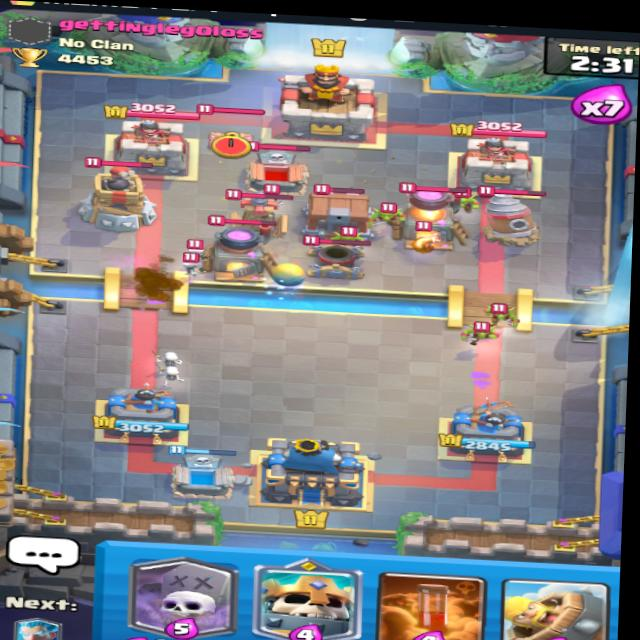bomb-tower: (73, 153, 162, 229)
fire-spirit: (405, 227, 442, 253)
furnace: (395, 179, 472, 254), (204, 212, 283, 280)
goblin: (457, 309, 496, 343), (486, 298, 524, 328), (443, 185, 482, 214), (370, 202, 407, 227), (329, 223, 368, 244)
goblin-cage: (294, 182, 378, 241)
goblin-drill: (474, 183, 547, 247)
mortar: (297, 233, 372, 283)
skeleton: (161, 249, 198, 277), (172, 234, 202, 254)
tesla: (213, 181, 292, 241)
tesla-closed: (189, 101, 273, 152)
tombstone: (235, 137, 316, 192)
